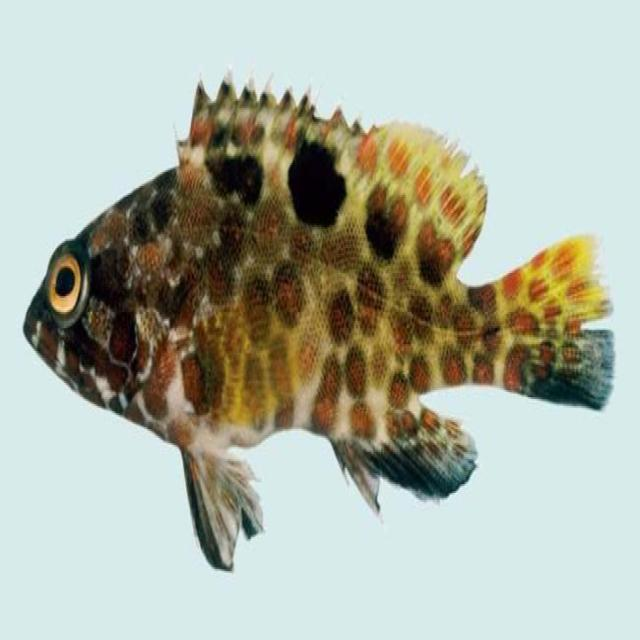ikan: (22, 67, 615, 573)
